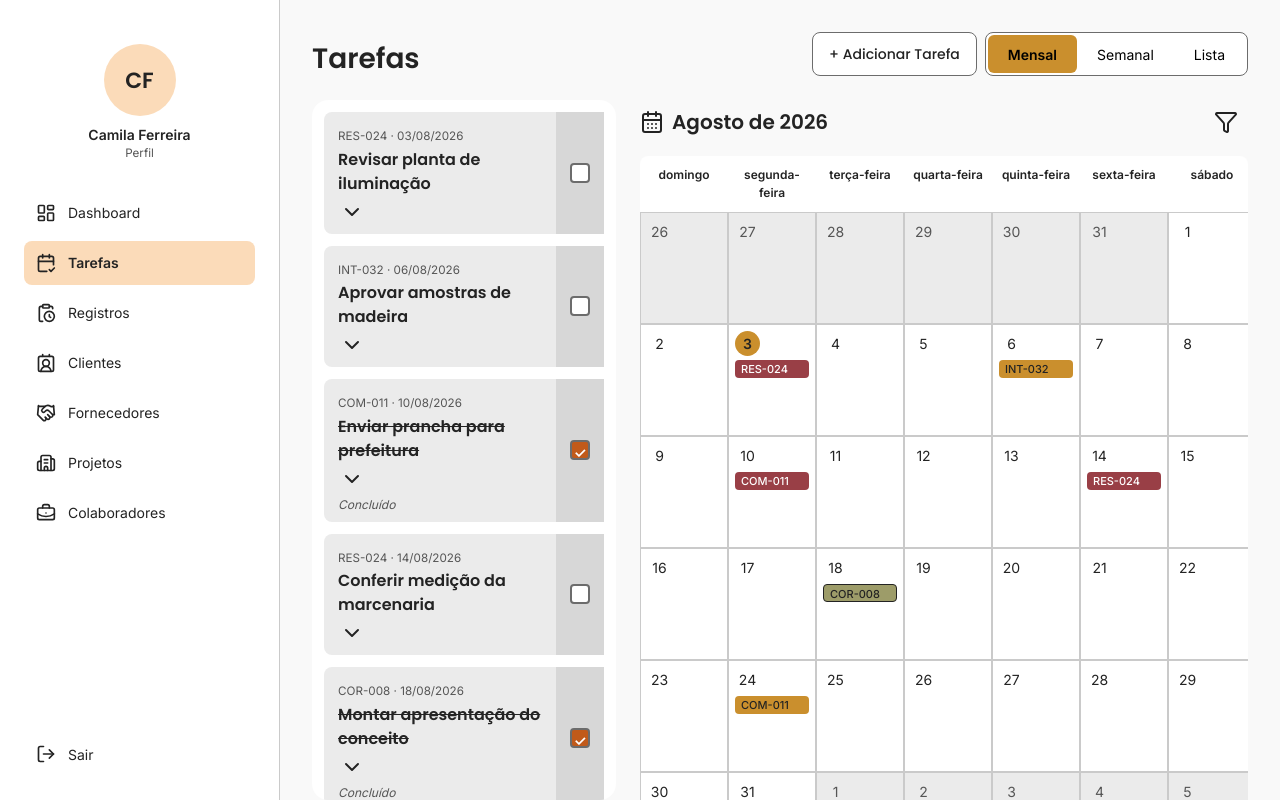
Scenario: Tarefas › mostra o código no calendário e abre o detalhe com registro de tempo
The image size is (1280, 800).
Click the button named "RES-024 — Revisar planta de iluminação" at (772, 369), box x1=735 y1=360 x2=809 y2=378
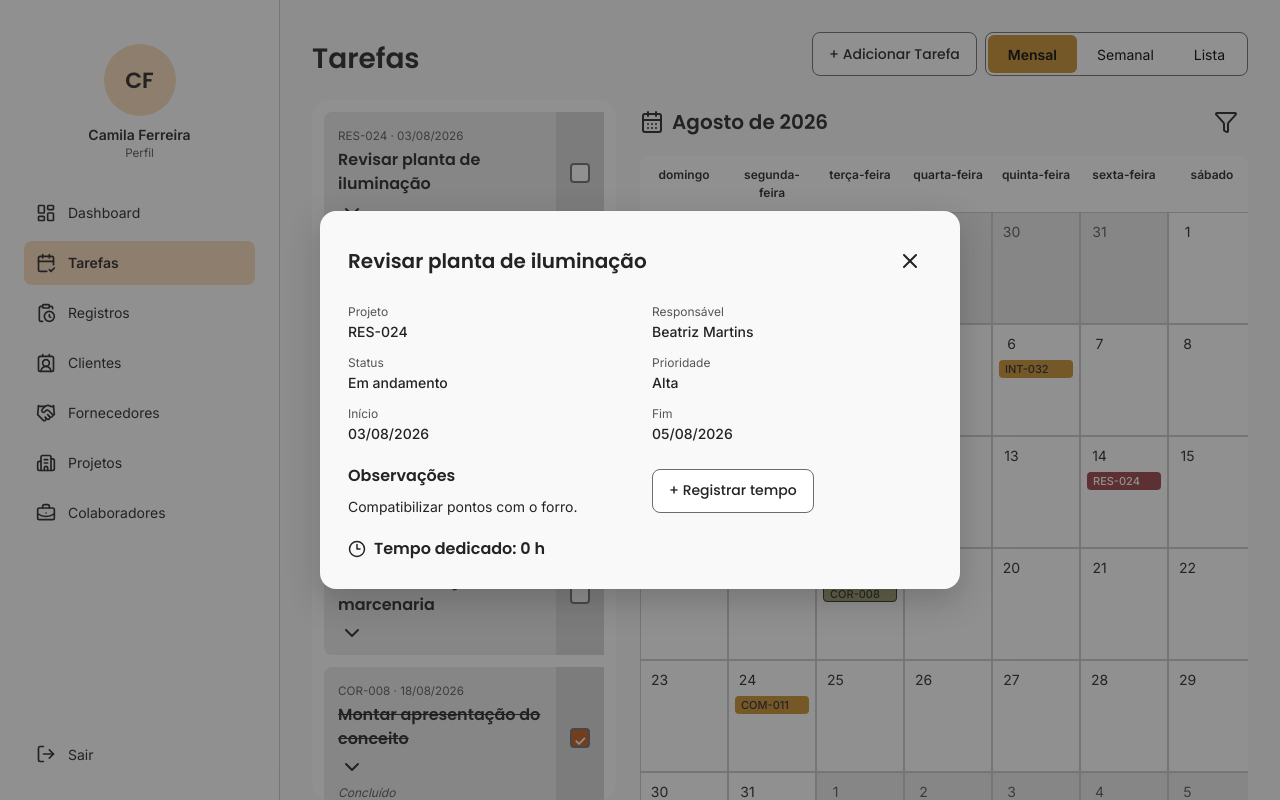
Expected: the field labelled "Data/hora início" is not shown
Expected: the heading "Tempo dedicado: 0 h" is shown, x1=348 y1=537 x2=545 y2=560
Click the button "+ Registrar tempo" at (733, 490), box x1=652 y1=468 x2=814 y2=512
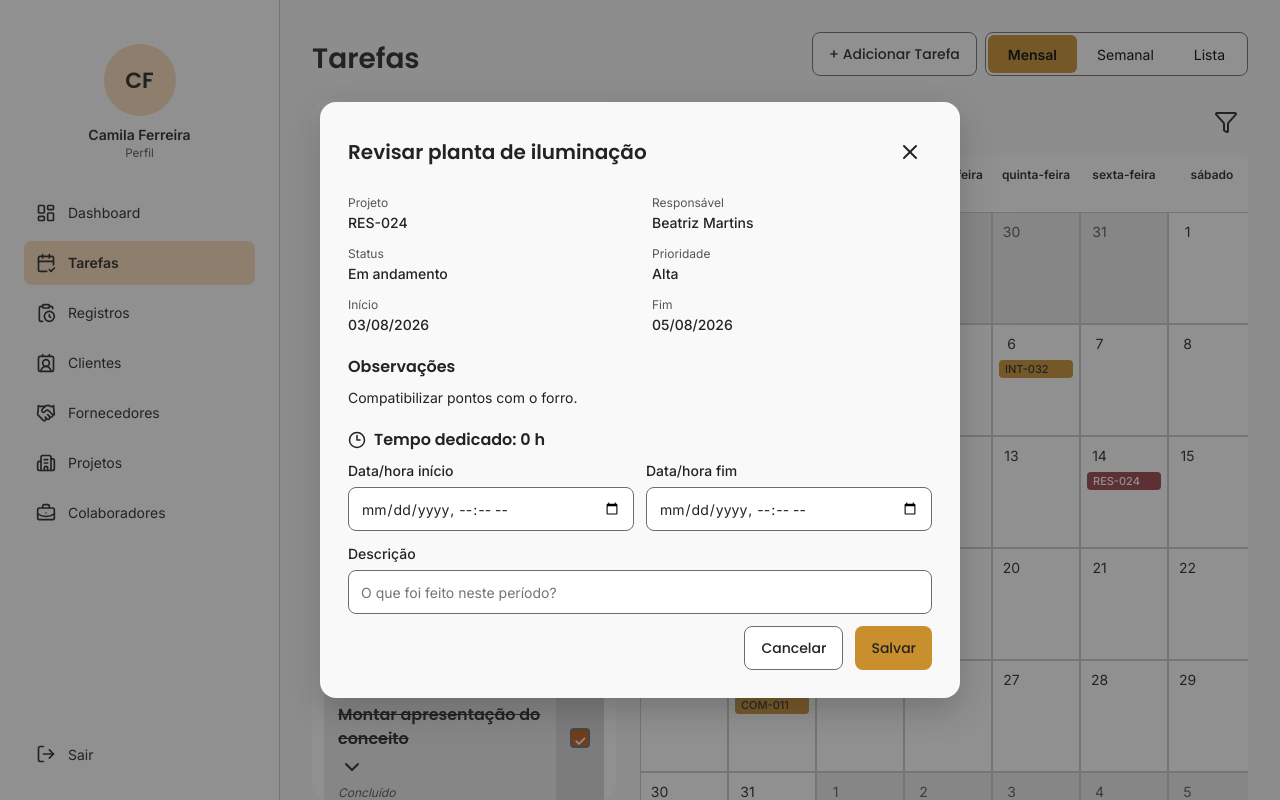
Note: Tela de cadastro
Type "2026-08-04T09:00" into the field labelled "Data/hora início" at (491, 509), box x1=348 y1=487 x2=634 y2=531
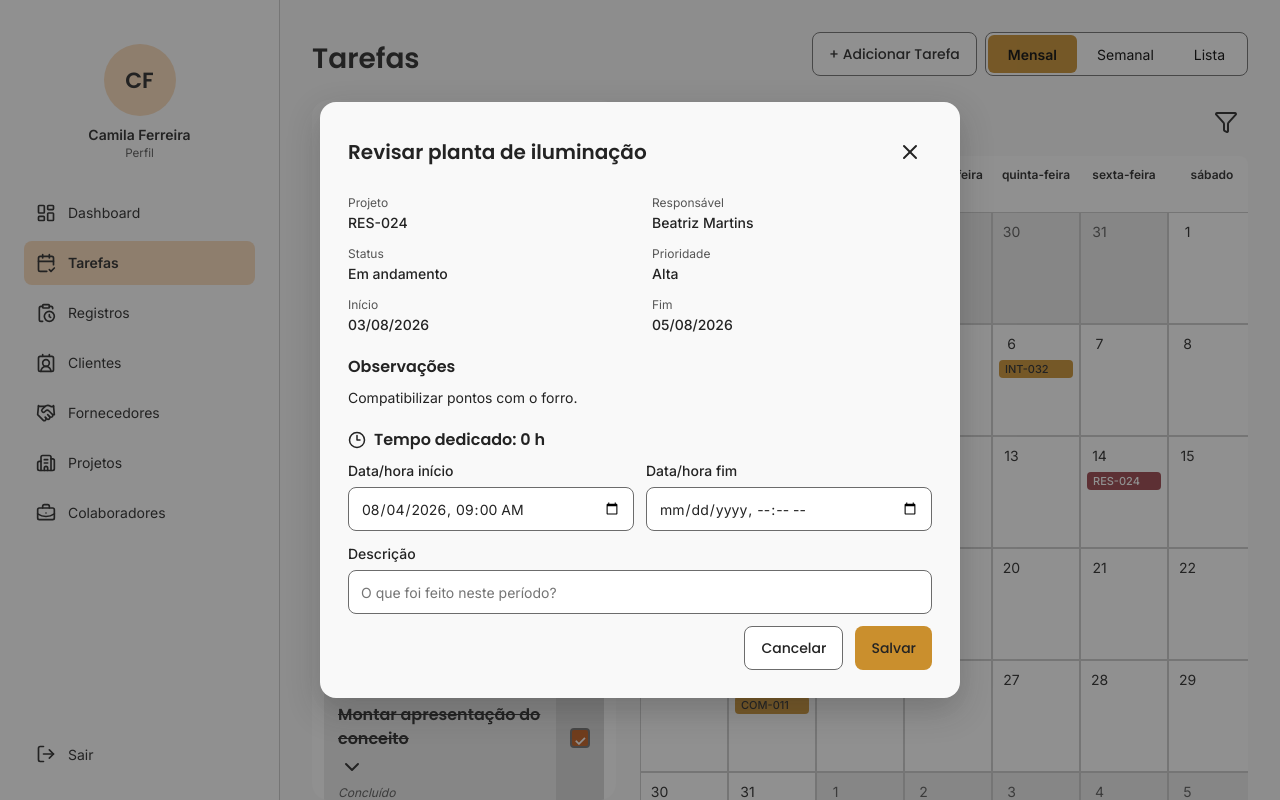
Type "2026-08-04T11:30" into the field labelled "Data/hora fim" at (789, 509), box x1=646 y1=487 x2=932 y2=531
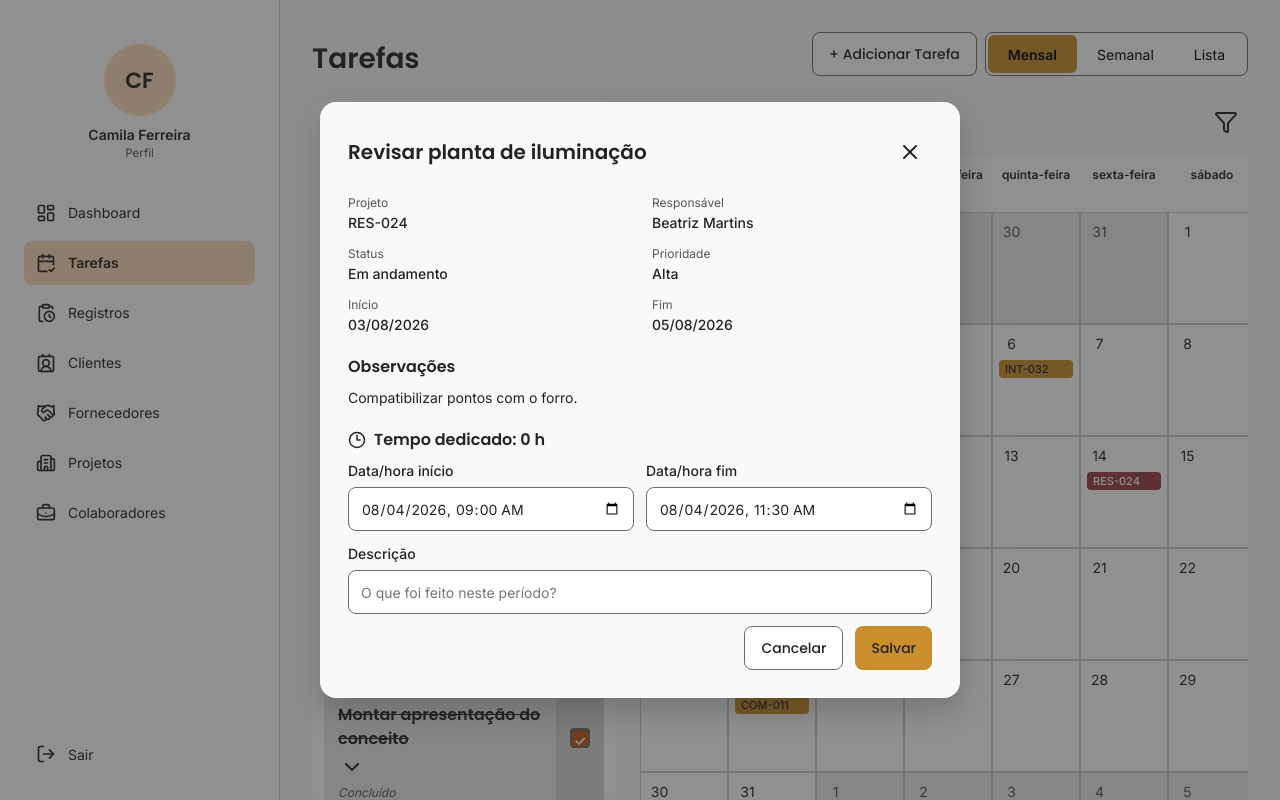
Type "Revisão dos pontos" into the field labelled "Descrição" at (640, 592), box x1=348 y1=570 x2=932 y2=614
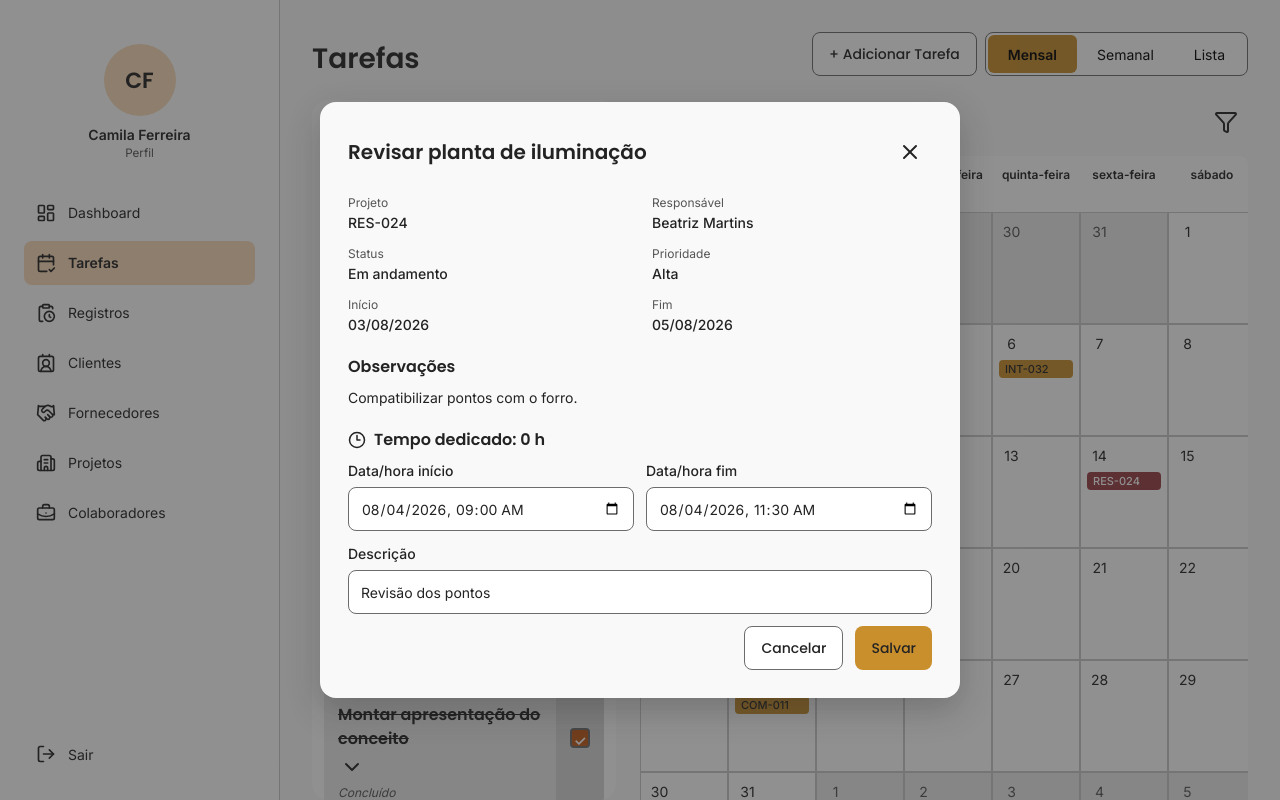
Click the button "Salvar" at (894, 648), box x1=855 y1=626 x2=932 y2=670
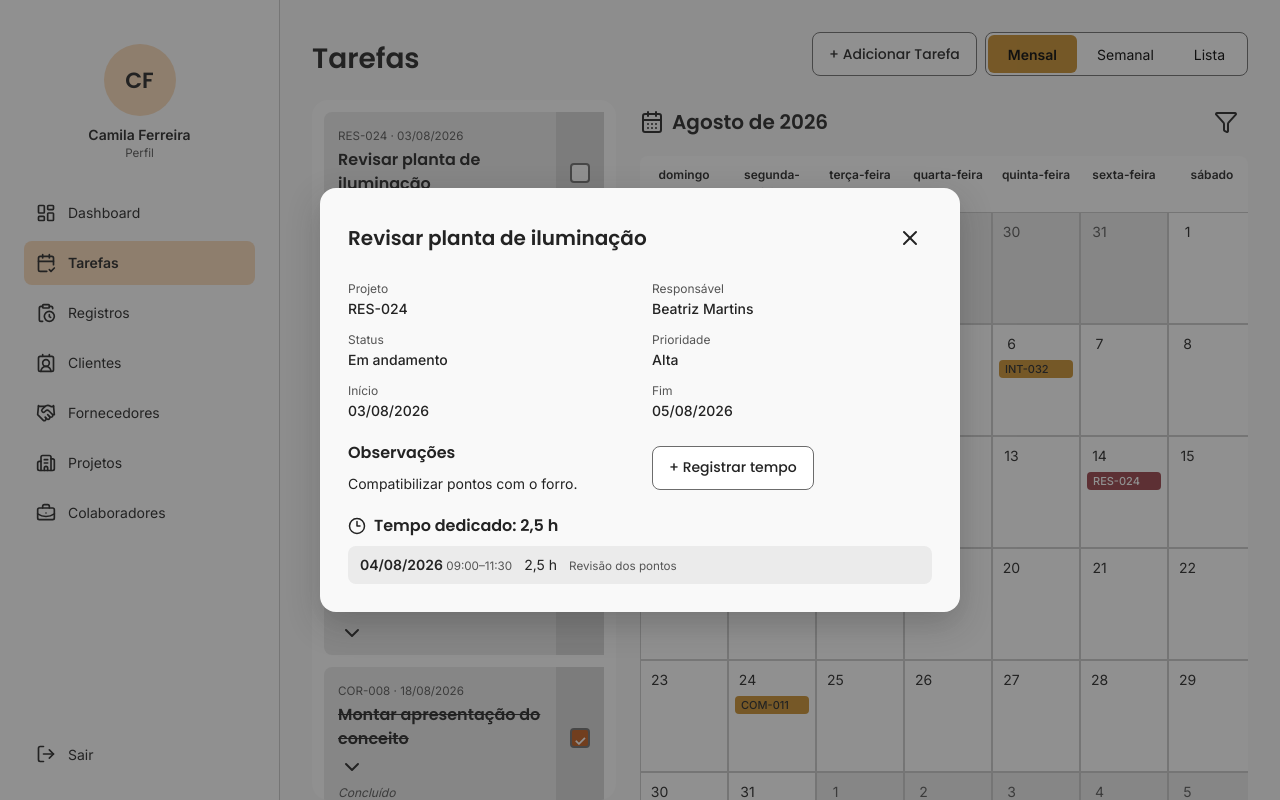
Expected: the heading "Tempo dedicado: 2,5 h" is shown, x1=348 y1=514 x2=558 y2=537
Expected: the text "Revisão dos pontos" is shown, x1=569 y1=559 x2=677 y2=573
